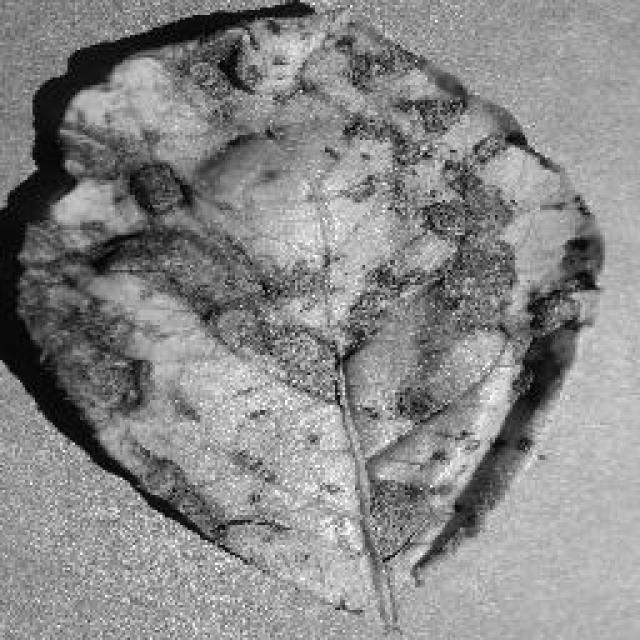Potato: (5, 0, 605, 628)
